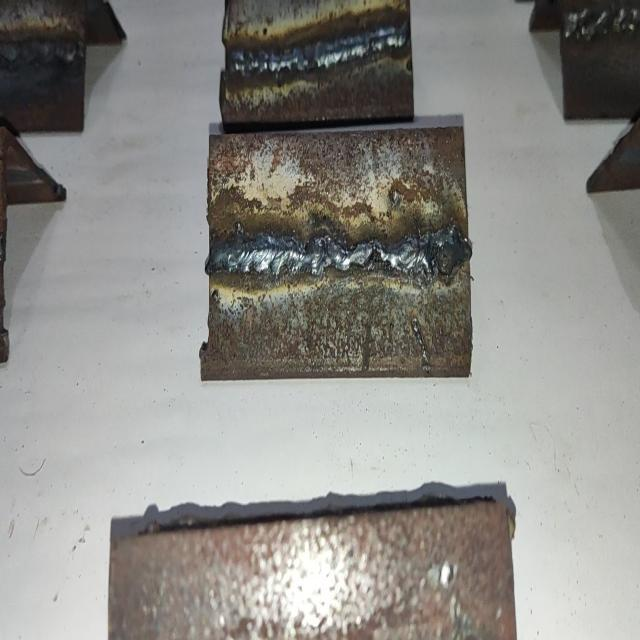Defect: (420, 220, 470, 290)
Welding Line: (208, 233, 468, 285), (224, 23, 410, 78), (0, 32, 82, 74)
Workpiece: (202, 122, 474, 384), (221, 0, 415, 138), (0, 0, 87, 137), (557, 0, 640, 122)
